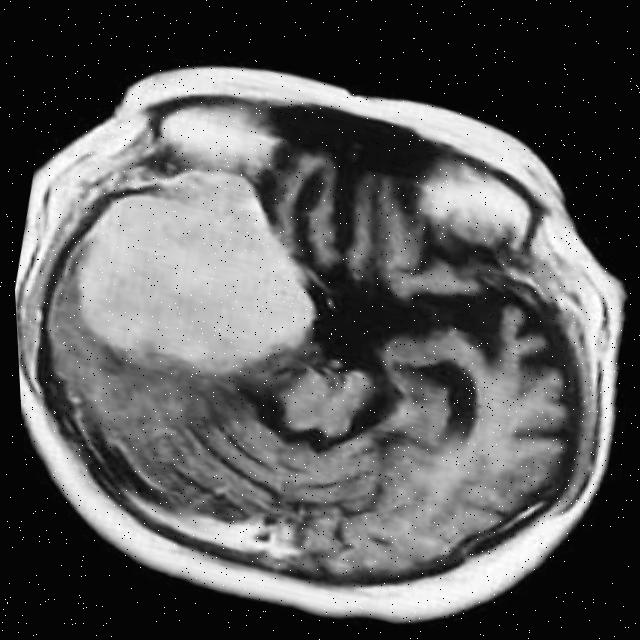Meningioma: (56, 142, 344, 399)
